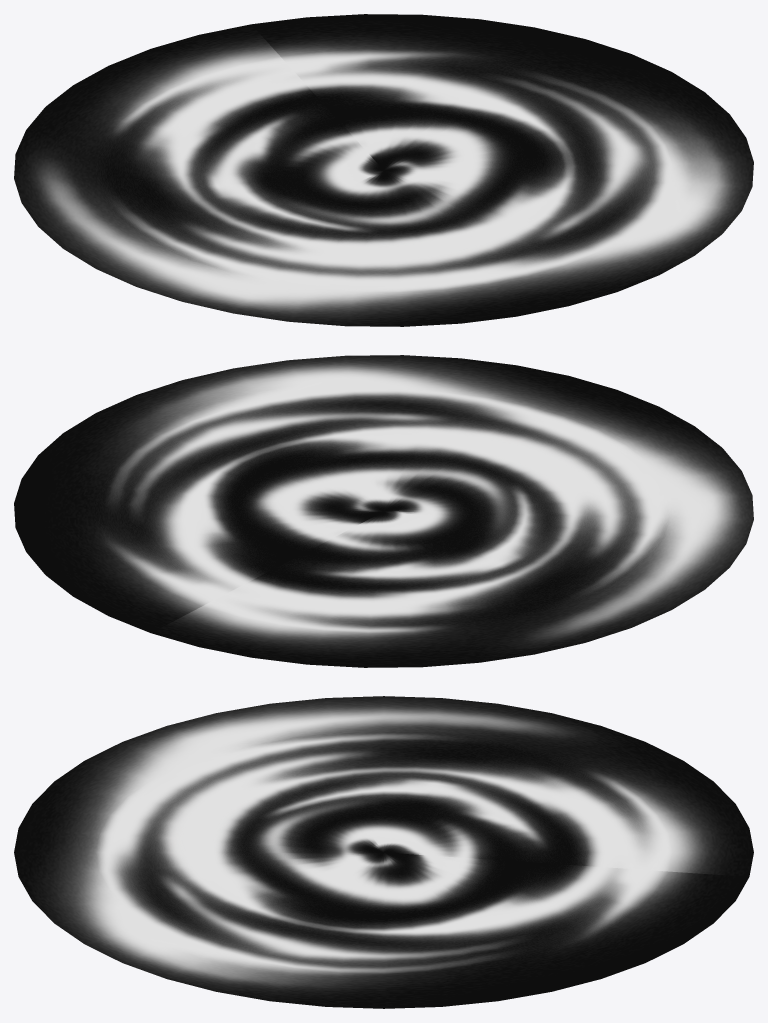
Rendered from Heal.fbx.
3 views of the same model, one above another, from view 1: azimuth 30°, elevation 25°; view 2: azimuth 150°, elevation 25°; view 3: azimuth 270°, elevation 25° (orthographic).
Parts seen in each view (by area): view 1: standardCylinder3; view 2: standardCylinder3; view 3: standardCylinder3.
Part boxes in pixels (box(x1,y1,x2,y2)): standardCylinder3: box(14, 14, 753, 326); standardCylinder3: box(14, 355, 753, 667); standardCylinder3: box(14, 696, 753, 1008).
Size of the model in its own units: 438 by 7.63e-06 by 438.
1 material, 1 textured.
